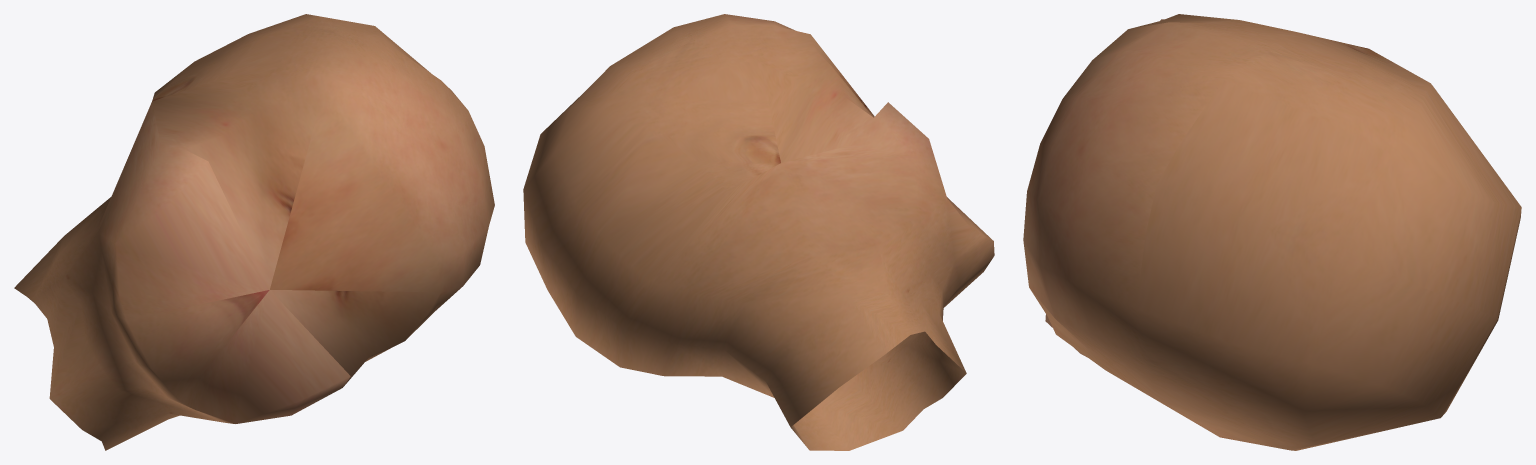
File: M_Home_Garden_Smoel.fbx
3 views of the same model, side by side, from view 1: azimuth 30°, elevation 25°; view 2: azimuth 150°, elevation 25°; view 3: azimuth 270°, elevation 25° (orthographic). The views are drawn at different scales.
Visible parts, largest first — view 1: M_Home_Garden_Smoel; view 2: M_Home_Garden_Smoel; view 3: M_Home_Garden_Smoel.
Boxes of the visible parts, x1,y1,x2,y2 form: M_Home_Garden_Smoel: (14, 14, 494, 450); M_Home_Garden_Smoel: (523, 14, 994, 450); M_Home_Garden_Smoel: (1023, 14, 1521, 450).
Size of the model in its own units: 19.26 by 16.3 by 15.89.
